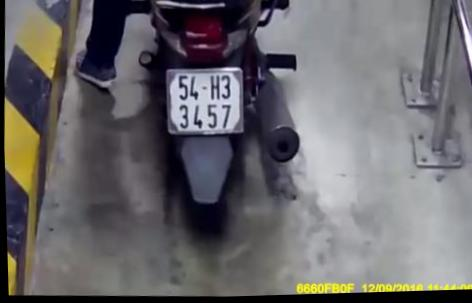LP: (160, 65, 249, 141)
